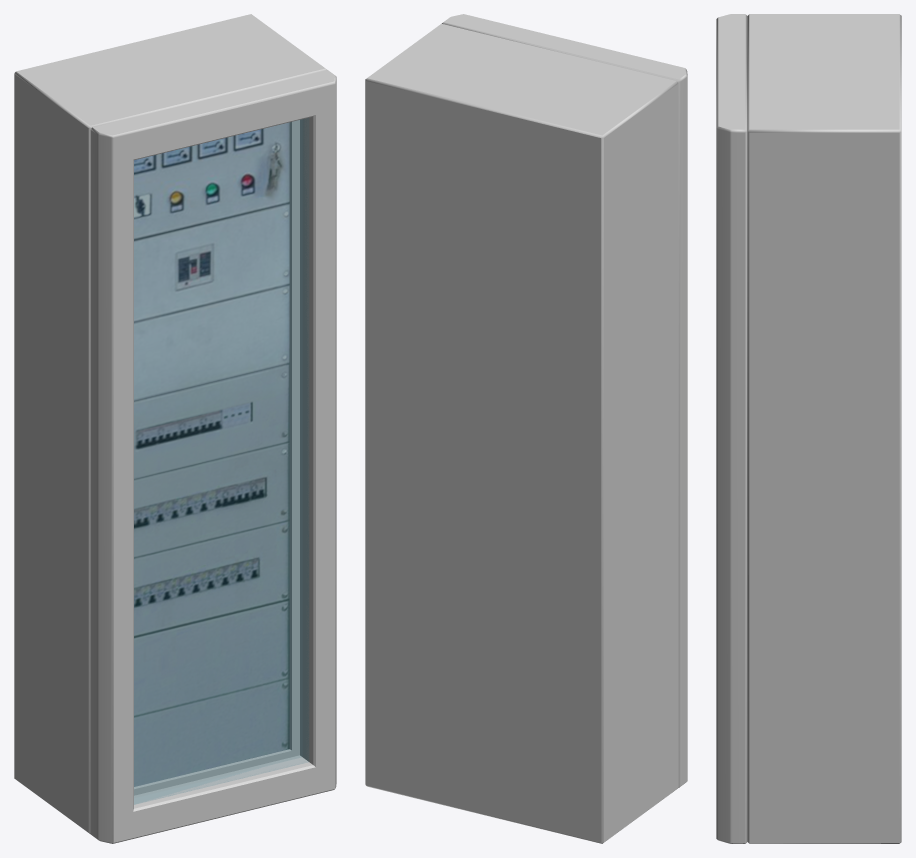
The model's file is peidiangui.fbx.
3 renders of one model, left to right at view 1: azimuth 30°, elevation 25°; view 2: azimuth 150°, elevation 25°; view 3: azimuth 270°, elevation 25°, orthographic.
Parts seen in each view (by area): view 1: polySurface4, polySurface6, polySurface5, polySurface3; view 2: polySurface5, polySurface3; view 3: polySurface5, polySurface3.
Boxes of the visible parts, bbox=[...] form: polySurface4: bbox=[134, 119, 308, 804]; polySurface6: bbox=[134, 122, 289, 786]; polySurface5: bbox=[14, 14, 326, 833]; polySurface3: bbox=[90, 70, 336, 843]; polySurface5: bbox=[365, 23, 678, 843]; polySurface3: bbox=[442, 14, 687, 787]; polySurface5: bbox=[747, 14, 901, 843]; polySurface3: bbox=[716, 14, 747, 843].
Bounding box in the file's own units: 60 × 170 × 40.01.
3 materials, 1 textured.
